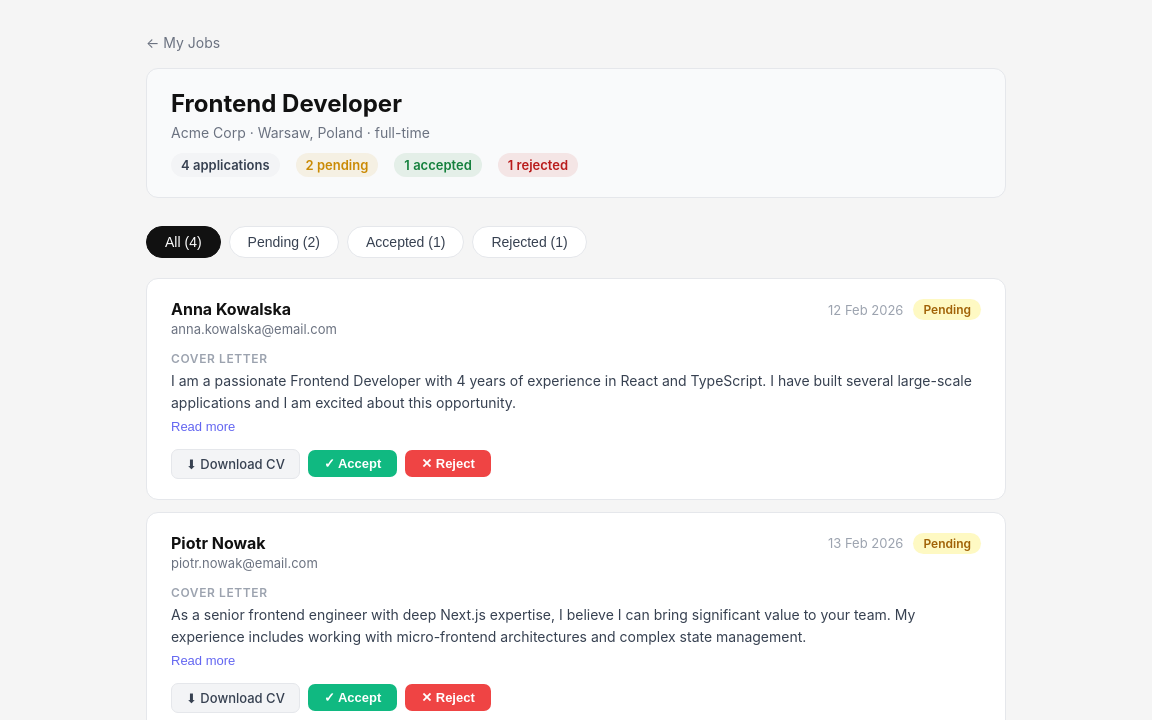
Test: JobApplicationsPage › filter by rejected shows only rejected apps
This screenshot has width=1152, height=720.
Click the button "Rejected (1)" at (530, 242), box [472,226,587,258]
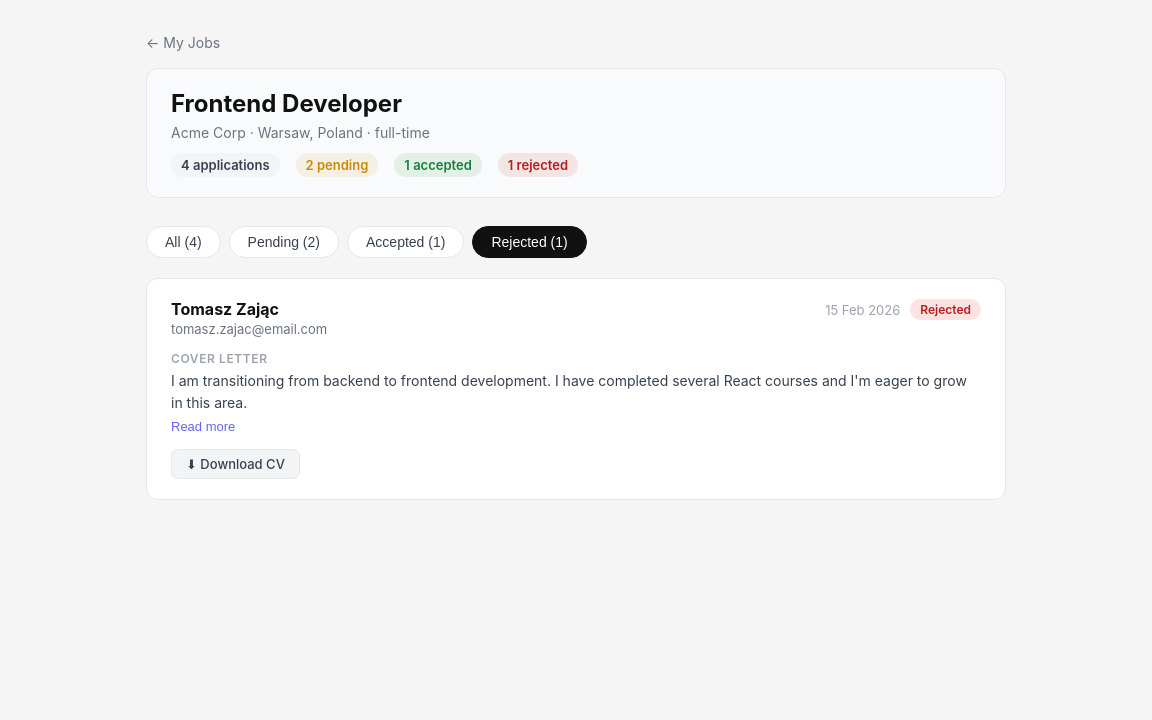
Expected: the text "Tomasz Zając" is shown, [171,299,279,319]
Result: the text "Anna Kowalska" is gone
